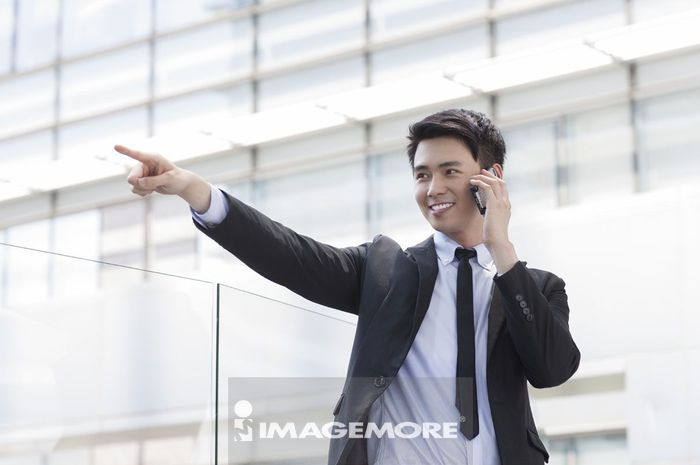phone: (472, 167, 499, 214)
talk: (413, 156, 510, 244)
